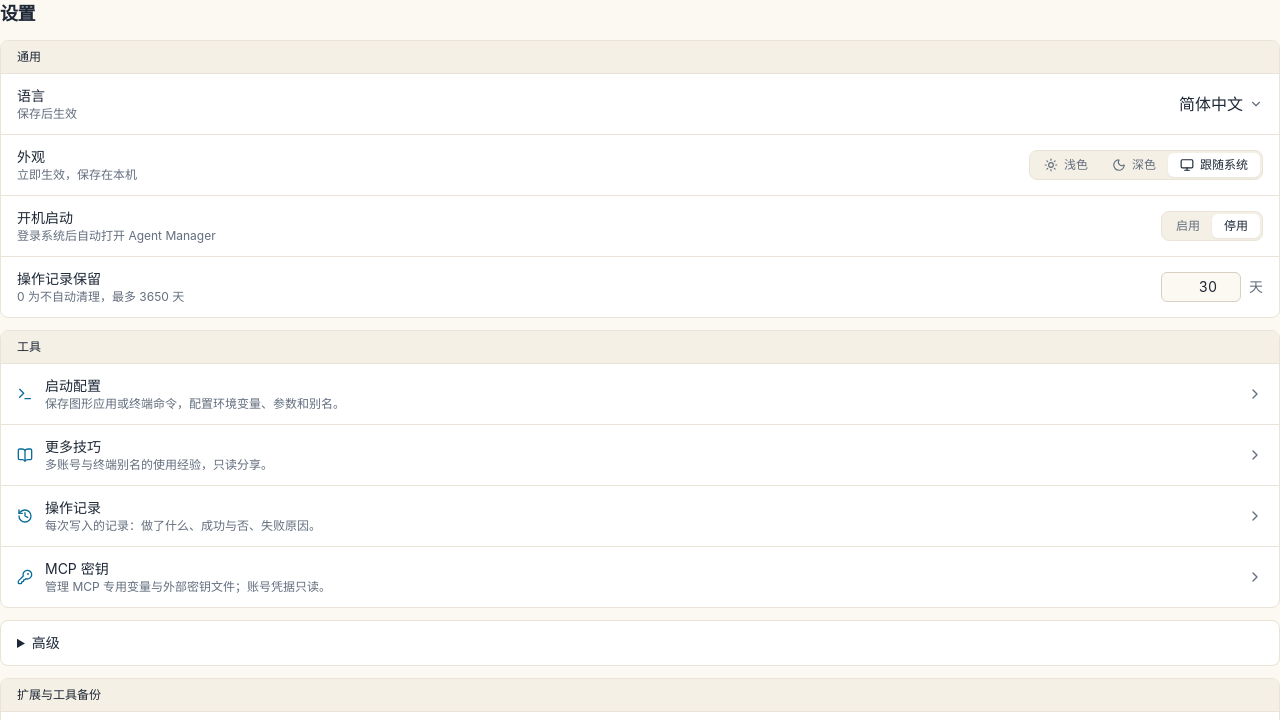
Test: SettingsPage › 读取并显示设置，保存成功后以引擎读回值为准
Replace the text in the number field named "日志保留天数" with "60" at (1201,287), box [1161,272,1241,302]
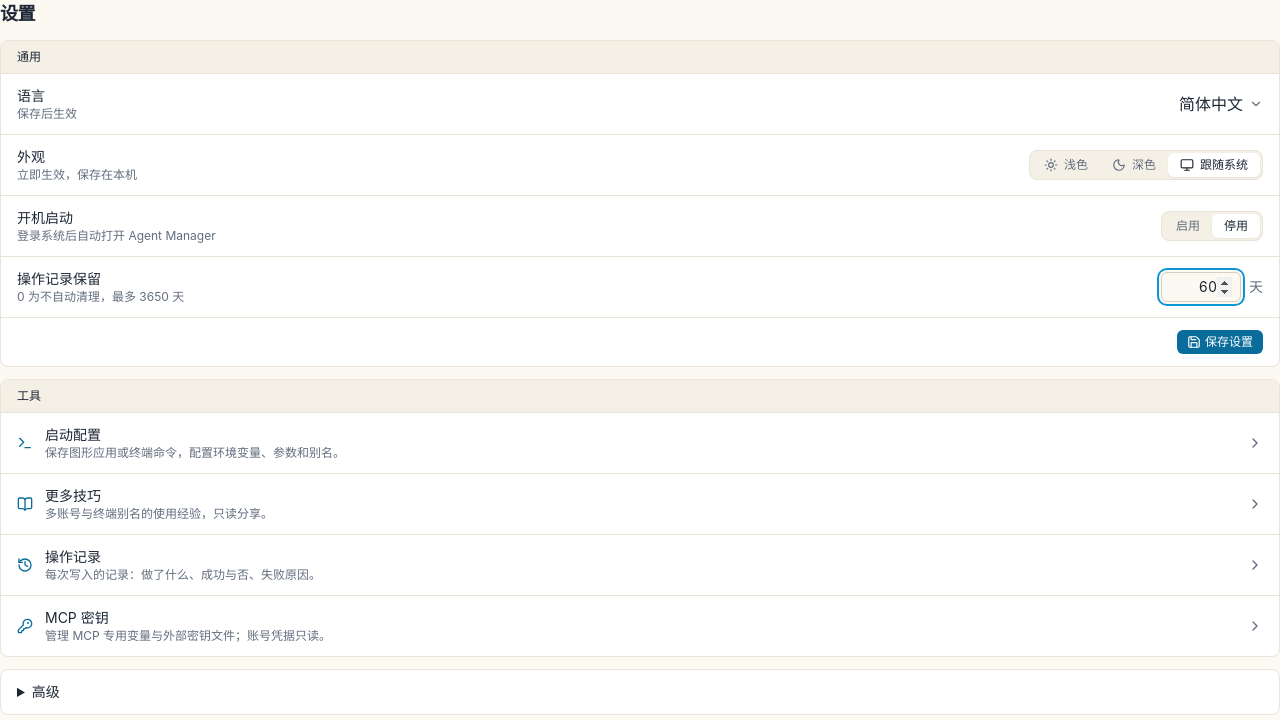
Click the button "保存设置".
click(1220, 342)  # box [1177,330,1263,354]
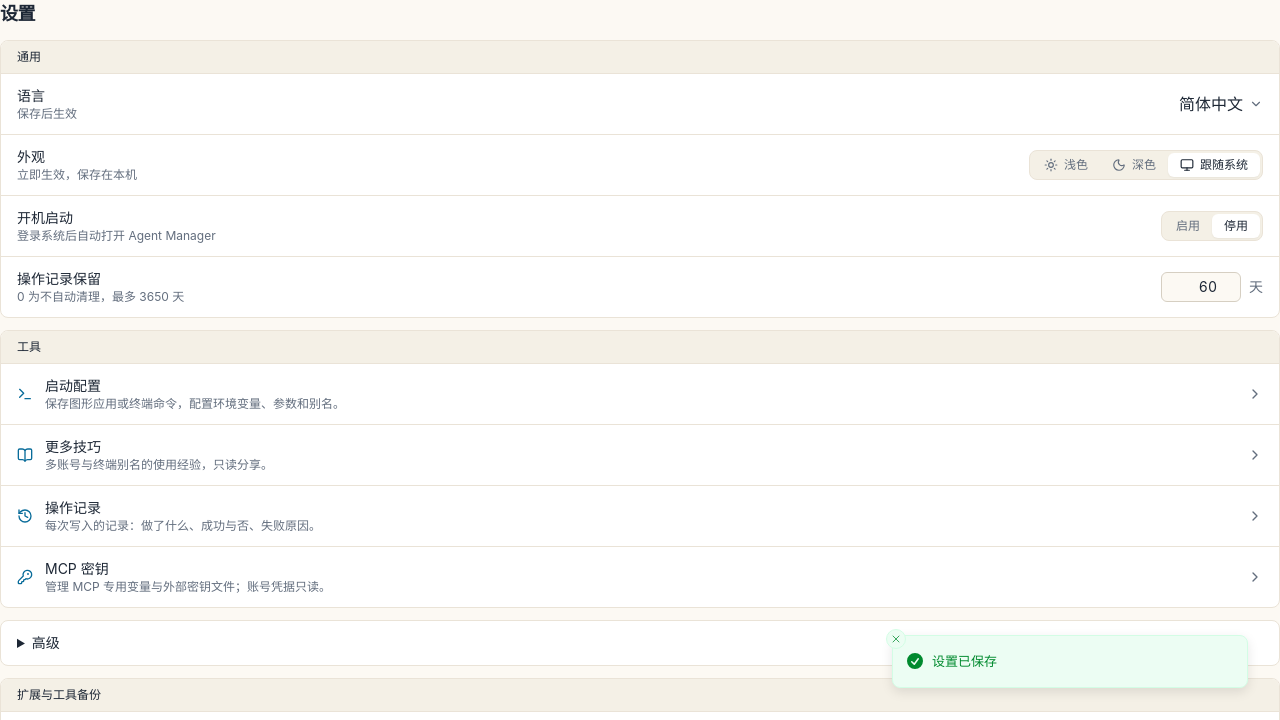
Expected: the text "设置已保存" is shown, [932,652,997,671]
